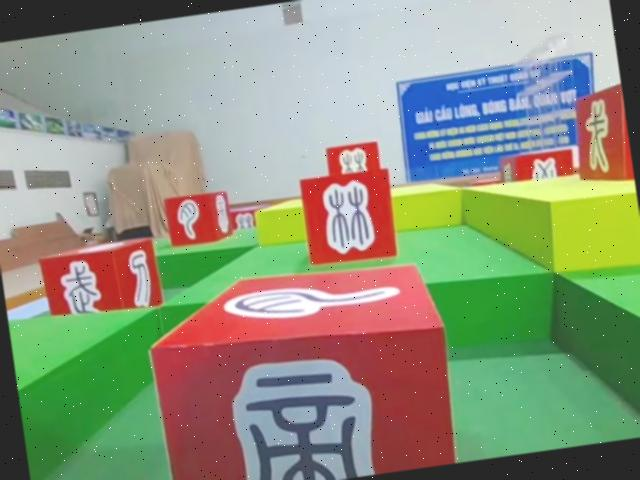R2 Fake: (138, 246, 467, 480), (33, 231, 167, 332), (297, 164, 402, 271), (567, 77, 635, 189), (160, 185, 238, 254)
